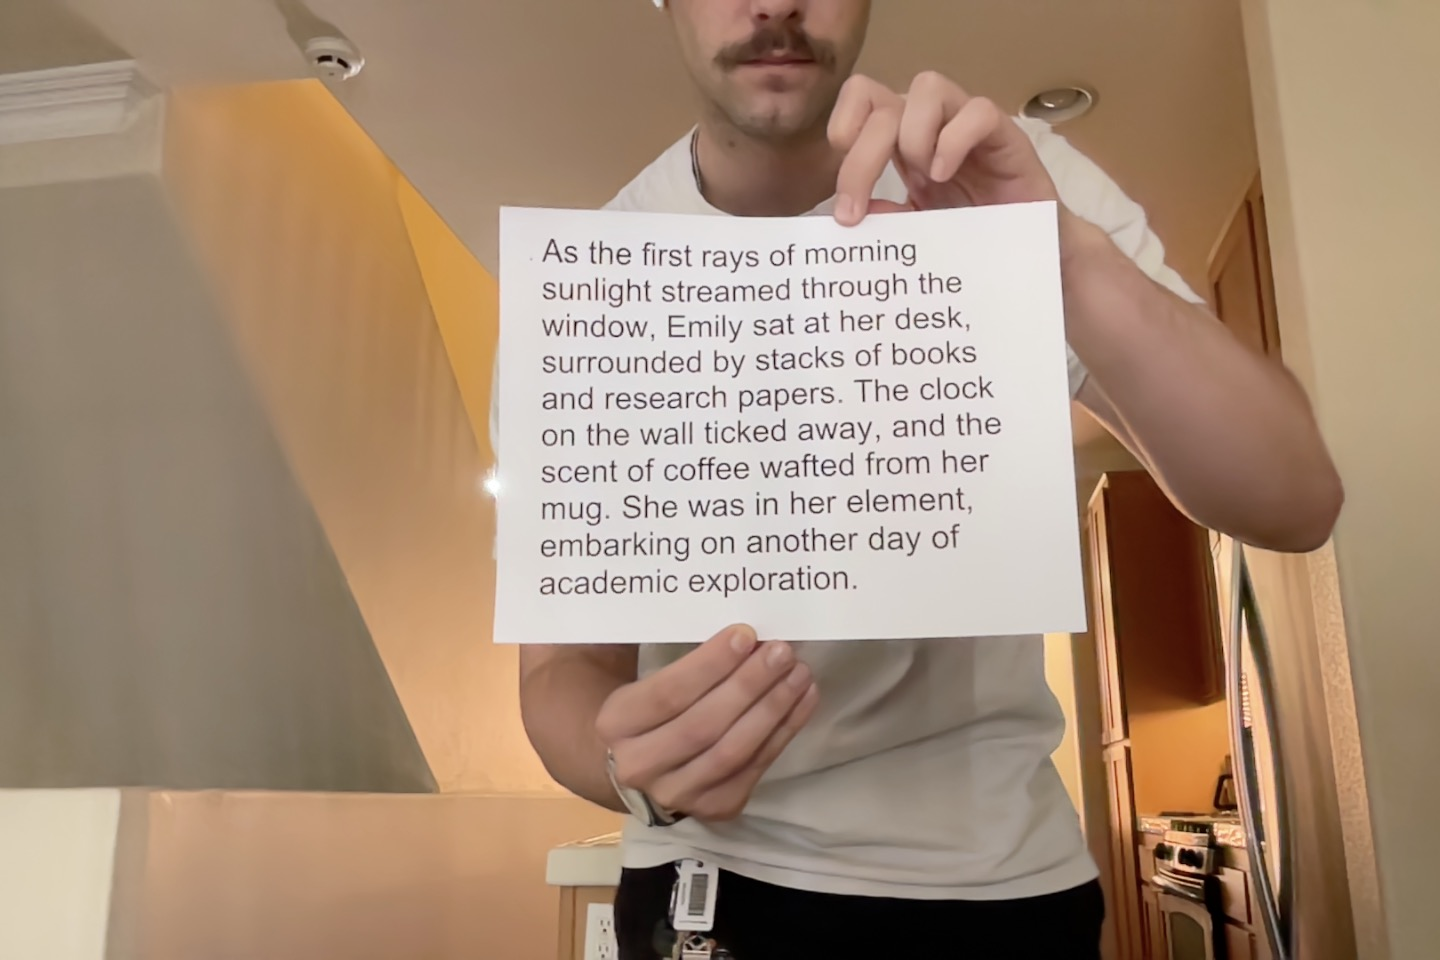paragraph: (538, 236, 1006, 603)
